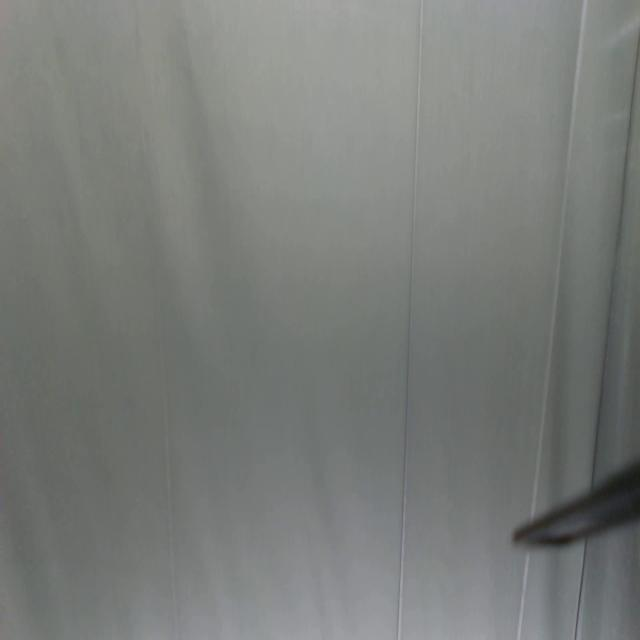crease: (513, 0, 588, 636), (572, 31, 640, 640), (130, 1, 180, 640), (394, 1, 427, 640)
